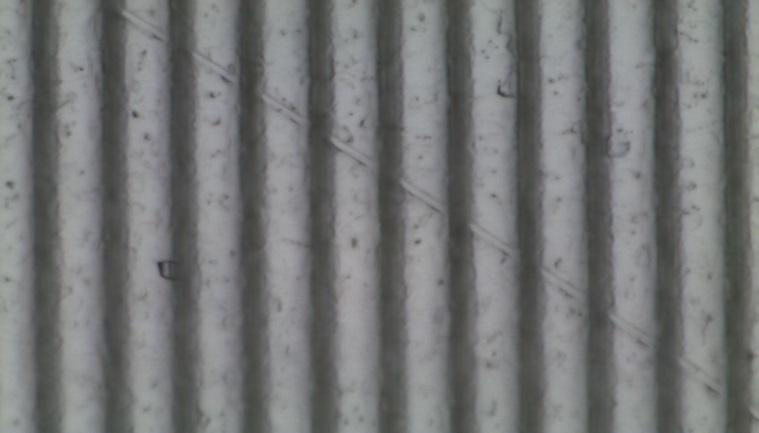SCRATCH: (103, 1, 759, 429)
